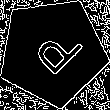P_SW: (22, 21, 83, 82)
